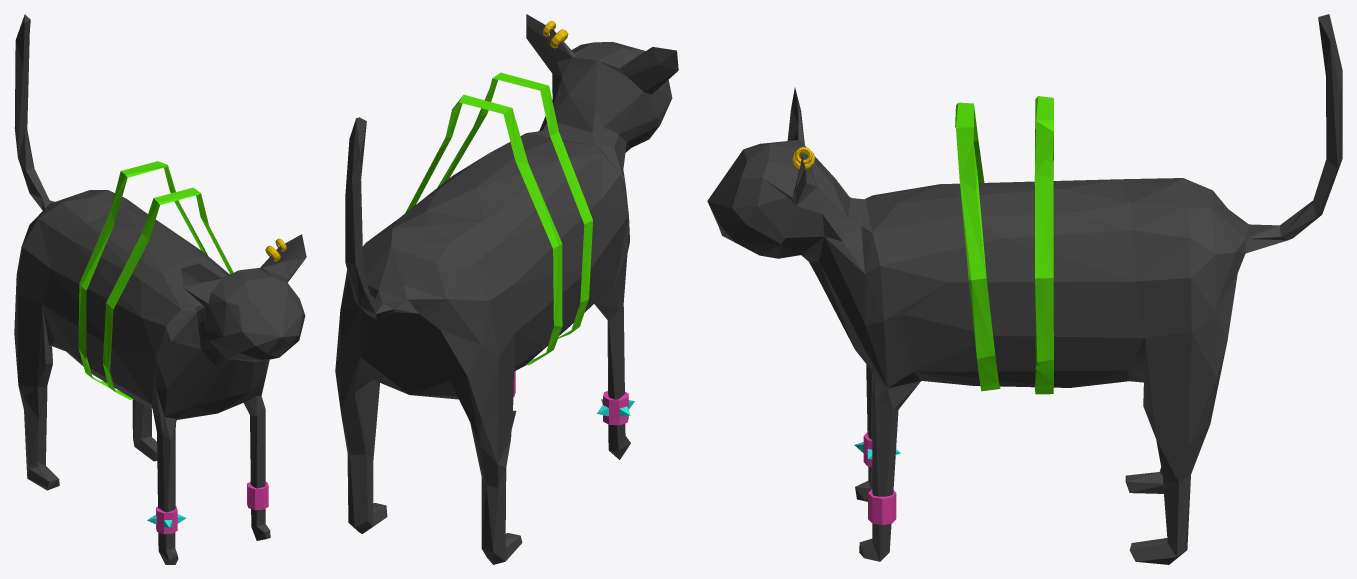
Rendered from FixedMetalcat.fbx.
3 views of the same model, side by side, from view 1: azimuth 30°, elevation 25°; view 2: azimuth 150°, elevation 25°; view 3: azimuth 270°, elevation 25° (orthographic). The views are drawn at different scales.
Visible parts, largest first — view 1: MetalCat; view 2: MetalCat; view 3: MetalCat.
Boxes of the visible parts, x1,y1,x2,y2 form: MetalCat: [14, 14, 306, 564]; MetalCat: [335, 14, 678, 564]; MetalCat: [707, 14, 1342, 564].
Size of the model in its own units: 203 by 593 by 664.
